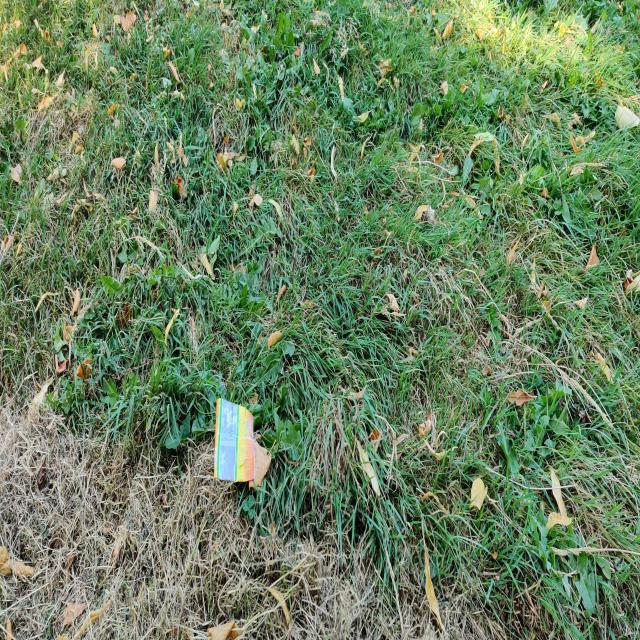litter: (214, 399, 262, 495)
